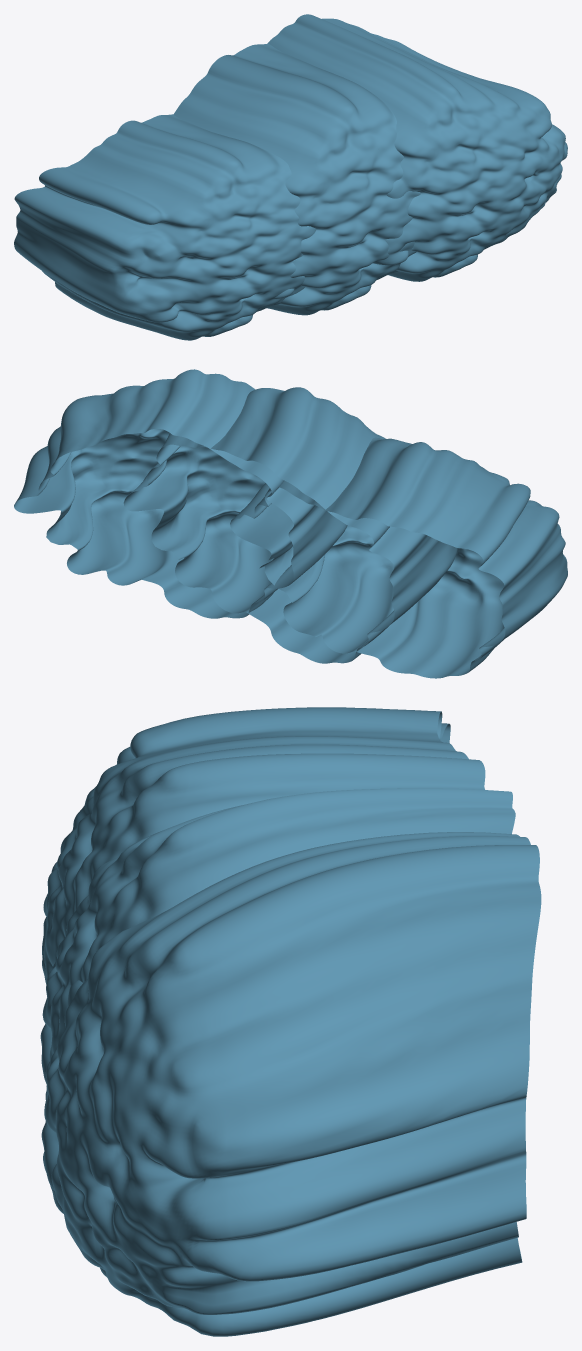
Rendered from brush_tip.fbx.
The picture shows the model from 3 angles, top to bottom: view 1: azimuth 30°, elevation 25°; view 2: azimuth 150°, elevation 25°; view 3: azimuth 270°, elevation 25°; orthographic projection. The views are drawn at different scales.
Parts seen in each view (by area): view 1: polySurface3216; view 2: polySurface3216; view 3: polySurface3216.
Part boxes in pixels (bbox=[...]): polySurface3216: bbox=[14, 14, 567, 340]; polySurface3216: bbox=[14, 369, 567, 678]; polySurface3216: bbox=[40, 707, 541, 1336].
Size of the model in its own units: 0.0245 by 0.00955 by 0.0106.
